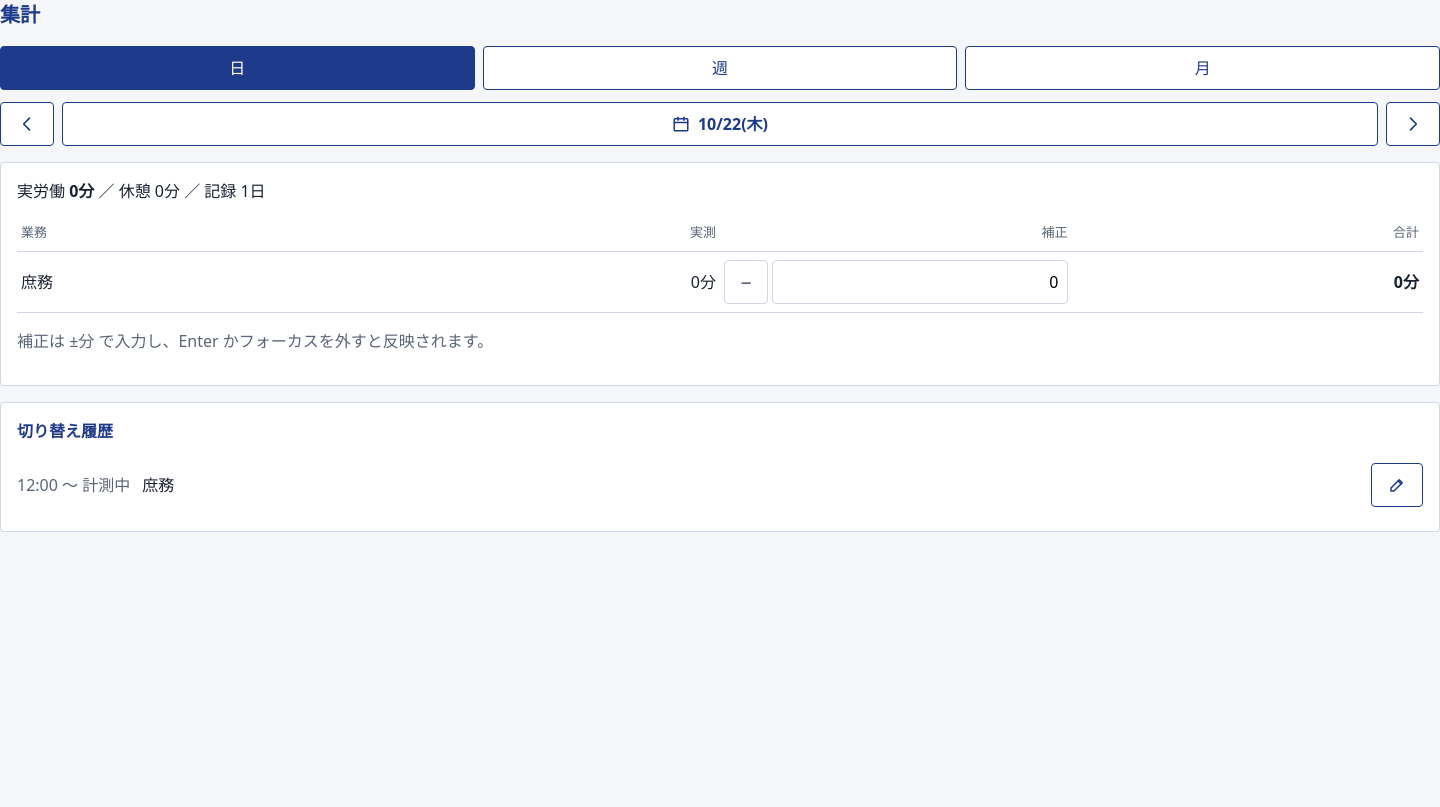
Test case: SummaryScreen › カレンダー › 日付ラベルを押すとカレンダーが開閉する
The width and height of the screenshot is (1440, 807).
Click the button "10/22(木)" at coordinates (720, 124), box [62,102,1378,146]
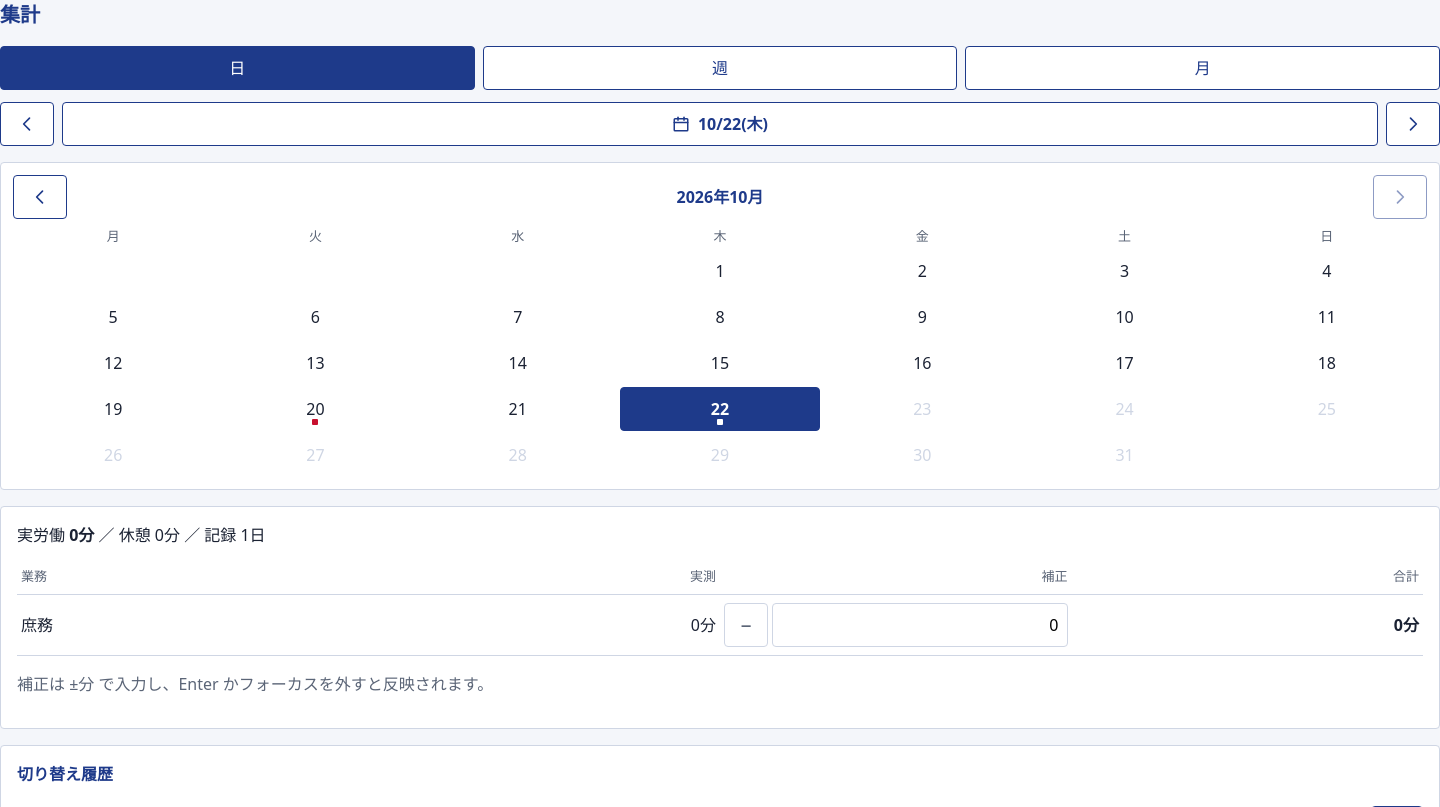
Expected: the element with class "calendar" is shown, [0,162,1439,490]
Click the button "10/22(木)" at coordinates (720, 124), box [62,102,1378,146]
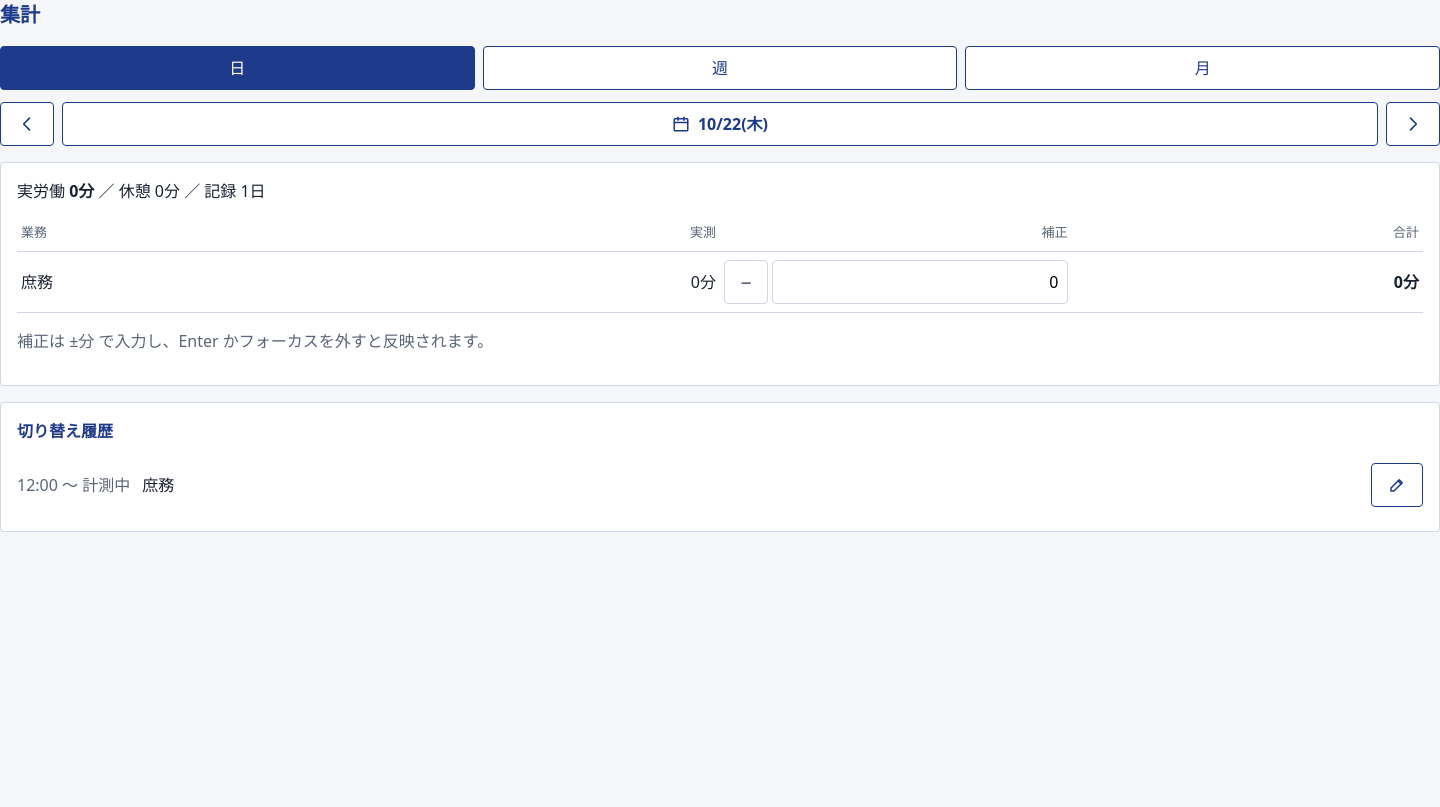
Expected: the element with class "calendar" is gone
